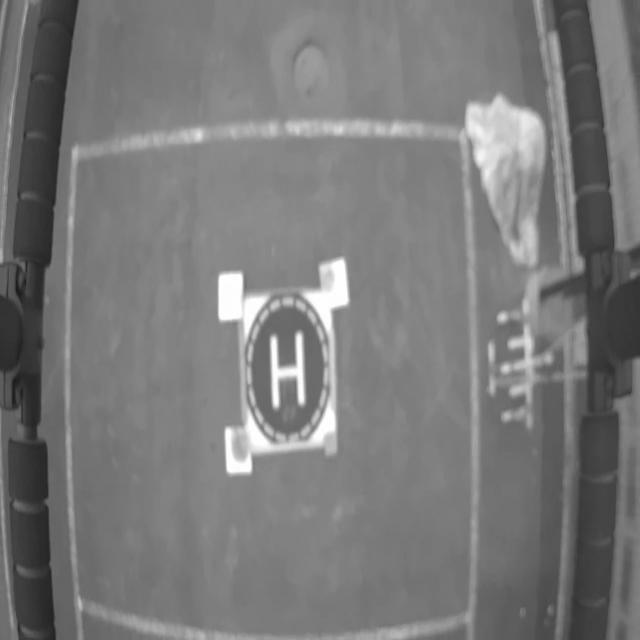Helipad: (270, 333, 307, 410)
